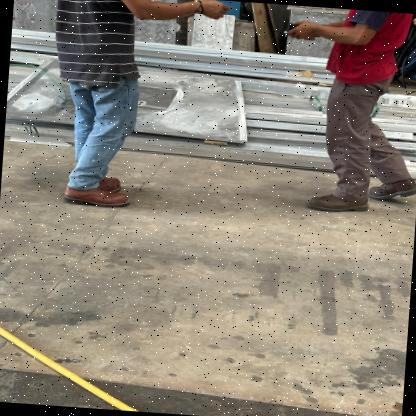bota: (64, 183, 136, 212), (301, 190, 375, 218), (360, 174, 416, 206), (92, 170, 134, 194)
